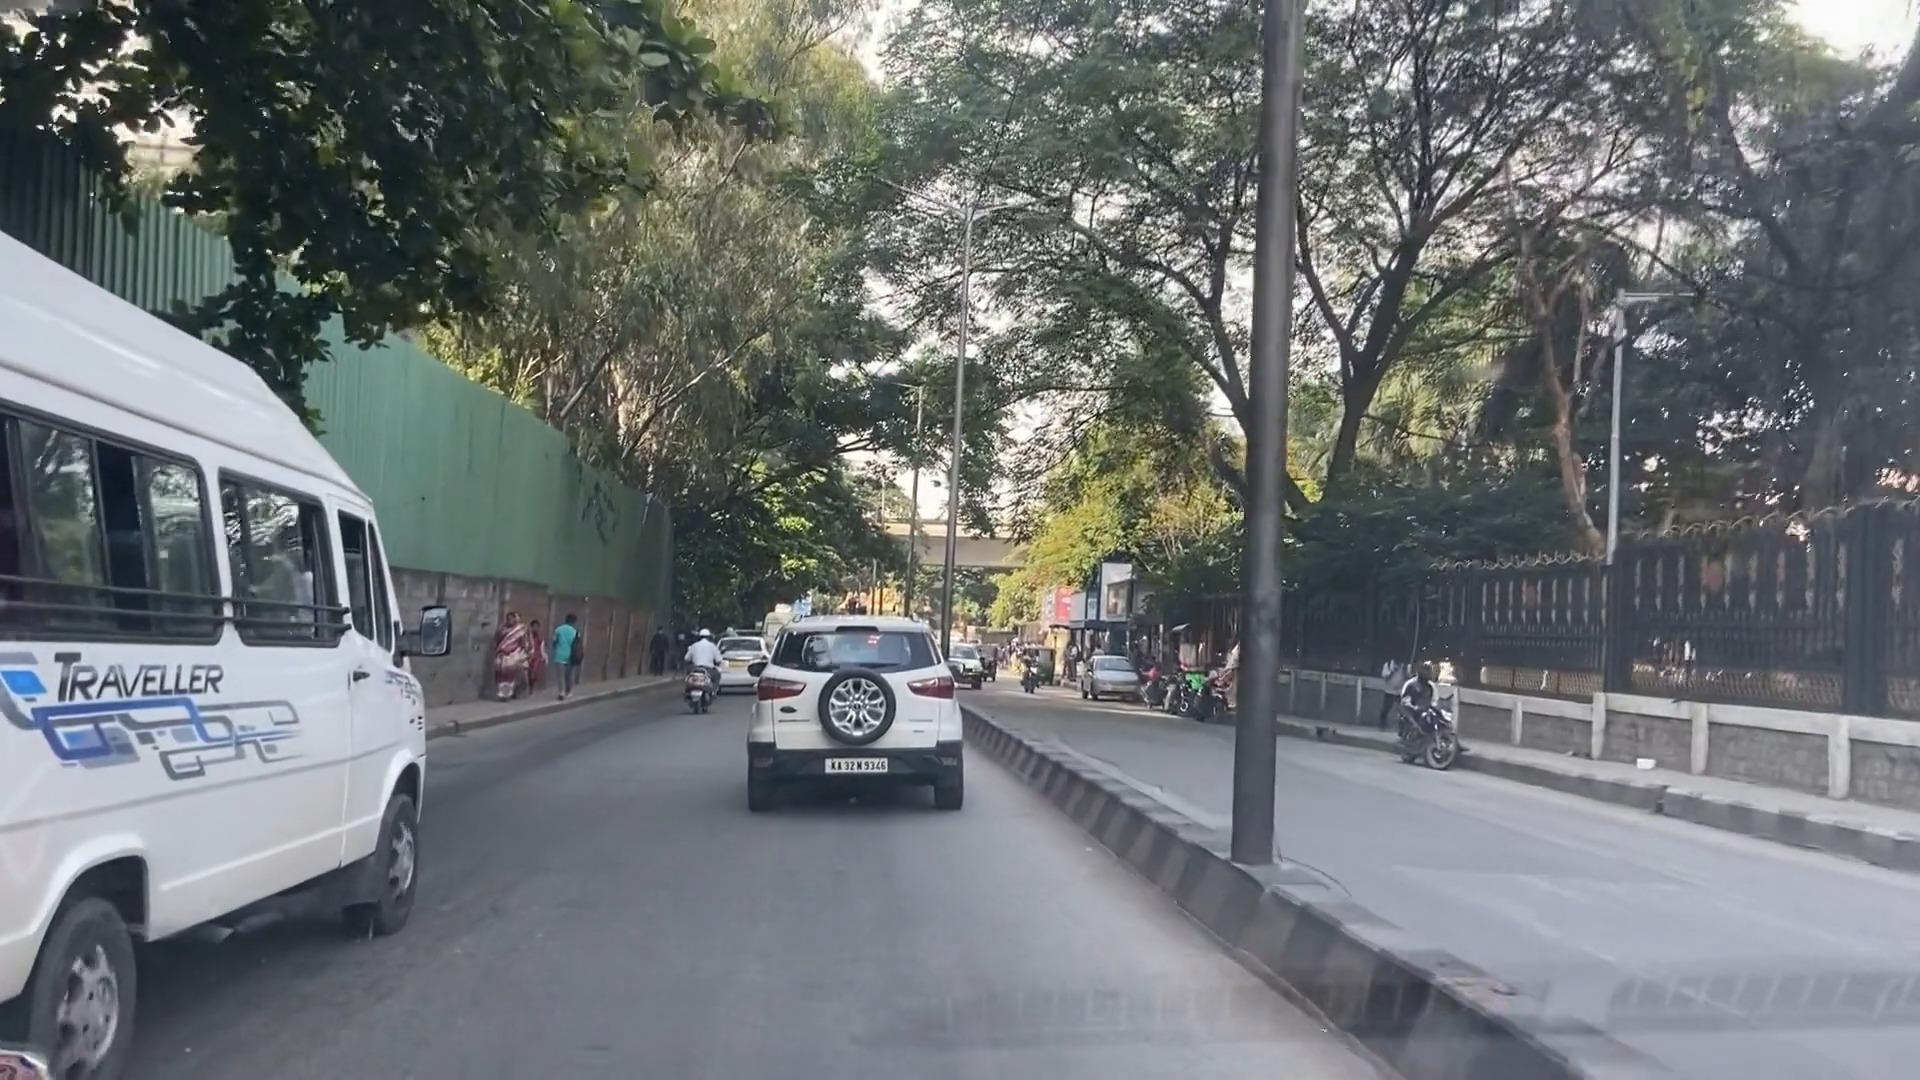HMV: (5, 211, 434, 1047)
LMV: (742, 608, 972, 802)
